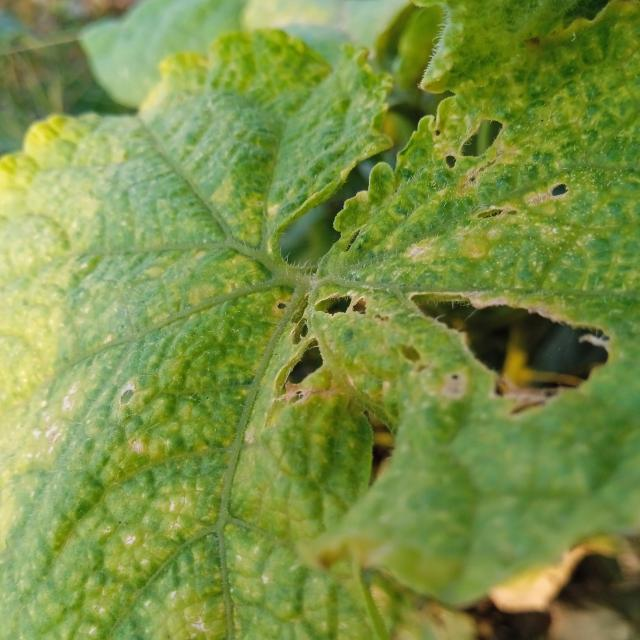cucumber_anthracnose: (34, 61, 632, 621)
